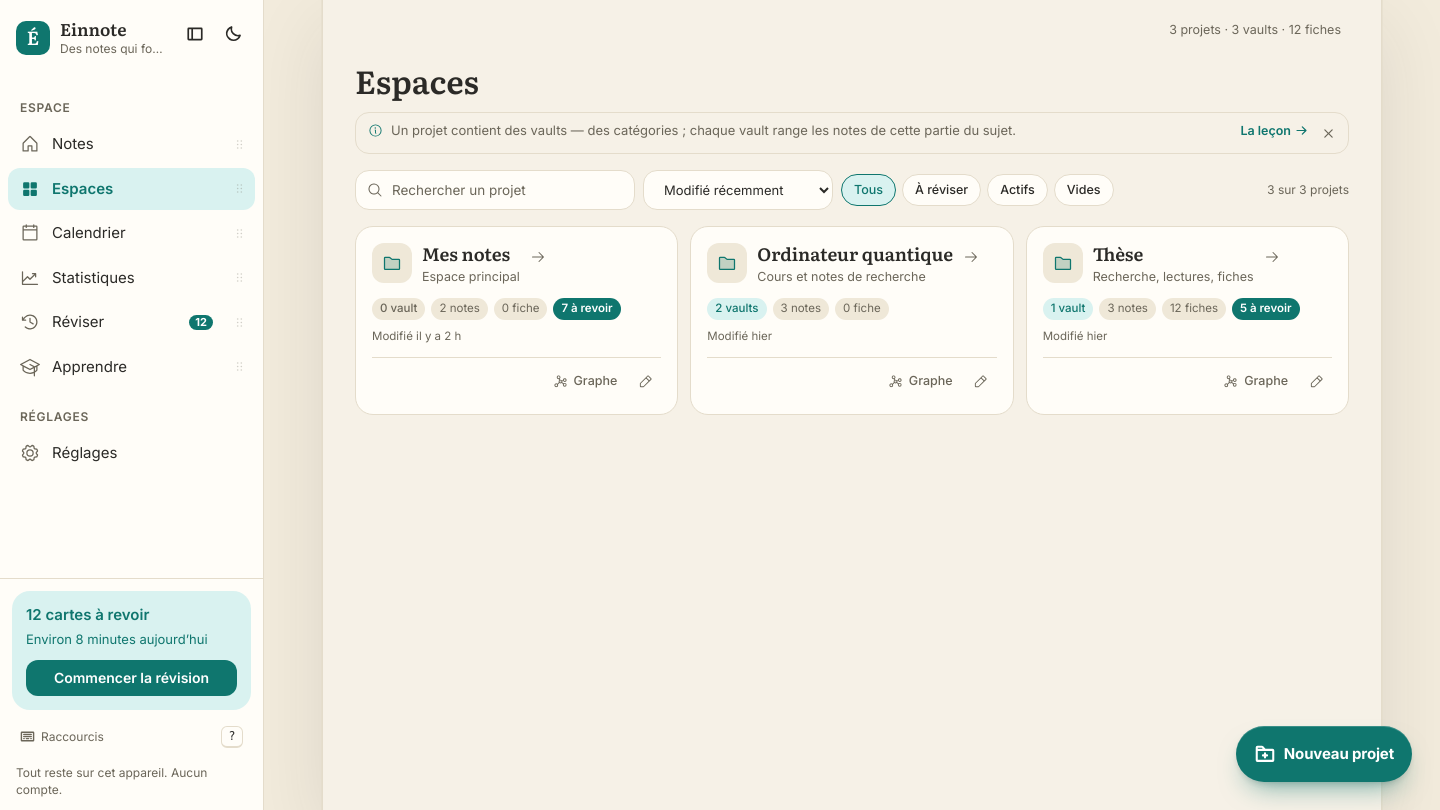
Test: Espaces, une seule hiérarchie › ouvre un projet, puis ses vaults
This screenshot has width=1440, height=810.
Click the button with aria-label "Ouvrir le projet Thèse" at (1063, 263), box [1043,243,1332,345]
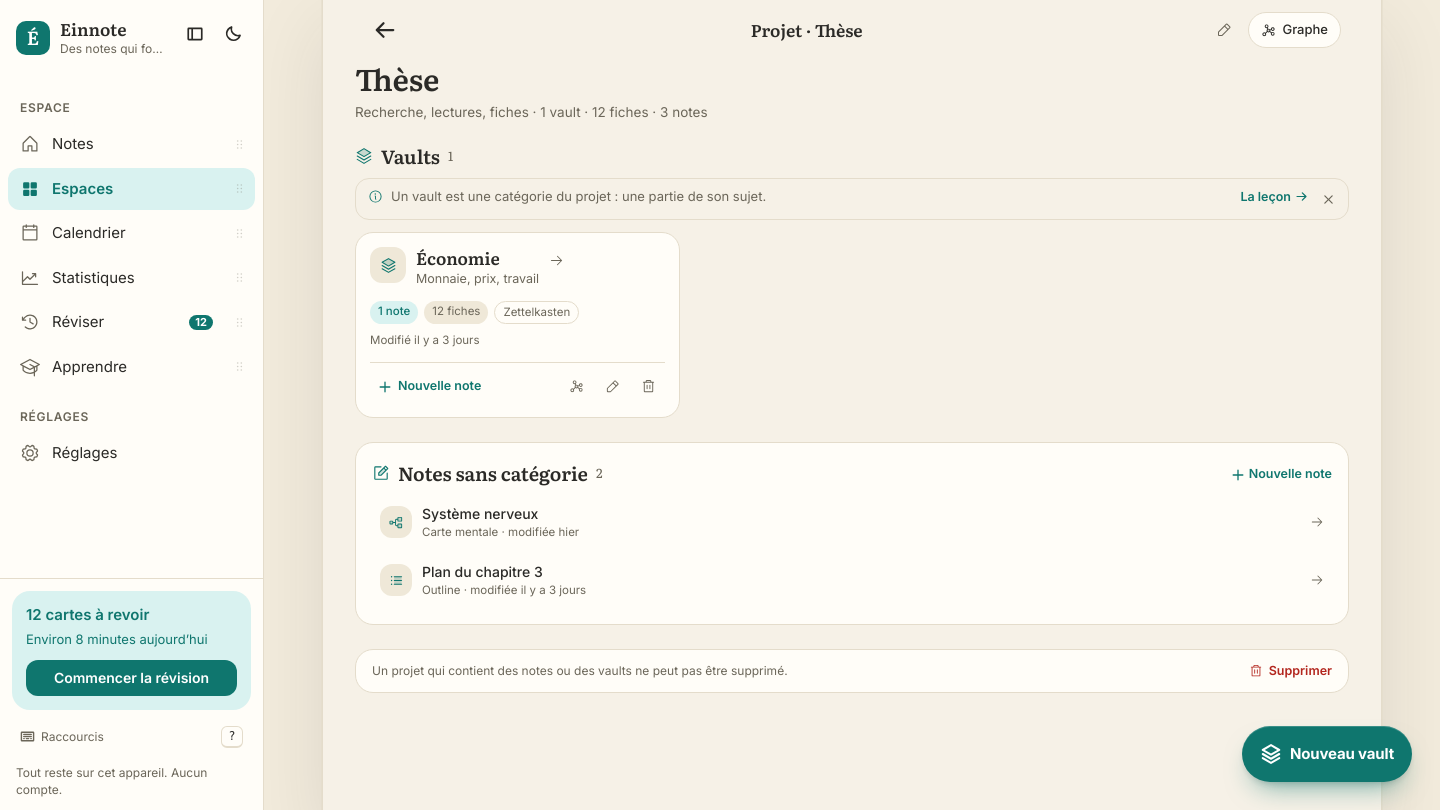
Now the heading "Thèse" is shown, box [355,56,440,100]
Now the button with aria-label "Ouvrir le vault Économie" is shown, box [370,247,665,350]
